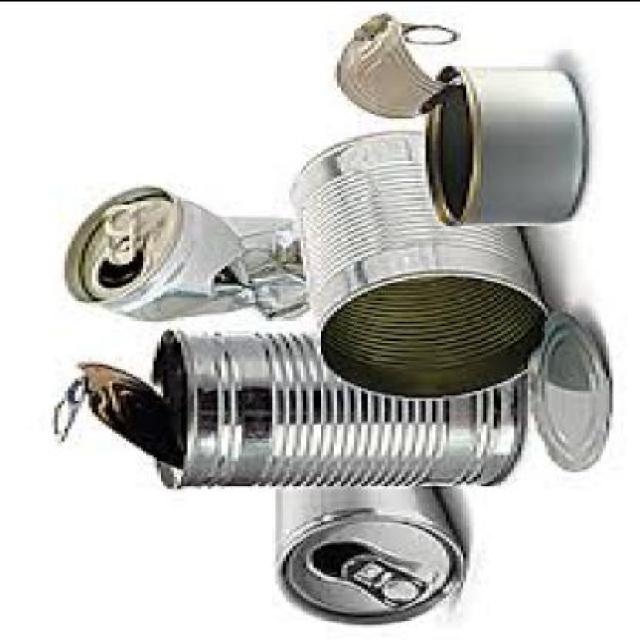METAL: (286, 130, 548, 402), (153, 329, 529, 489), (61, 188, 307, 322), (262, 487, 470, 628), (422, 69, 586, 225), (330, 14, 459, 121), (54, 366, 180, 468), (528, 313, 609, 470)
